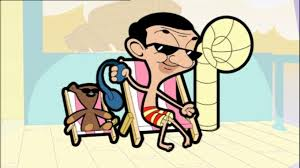mrbean: (122, 11, 204, 151)
